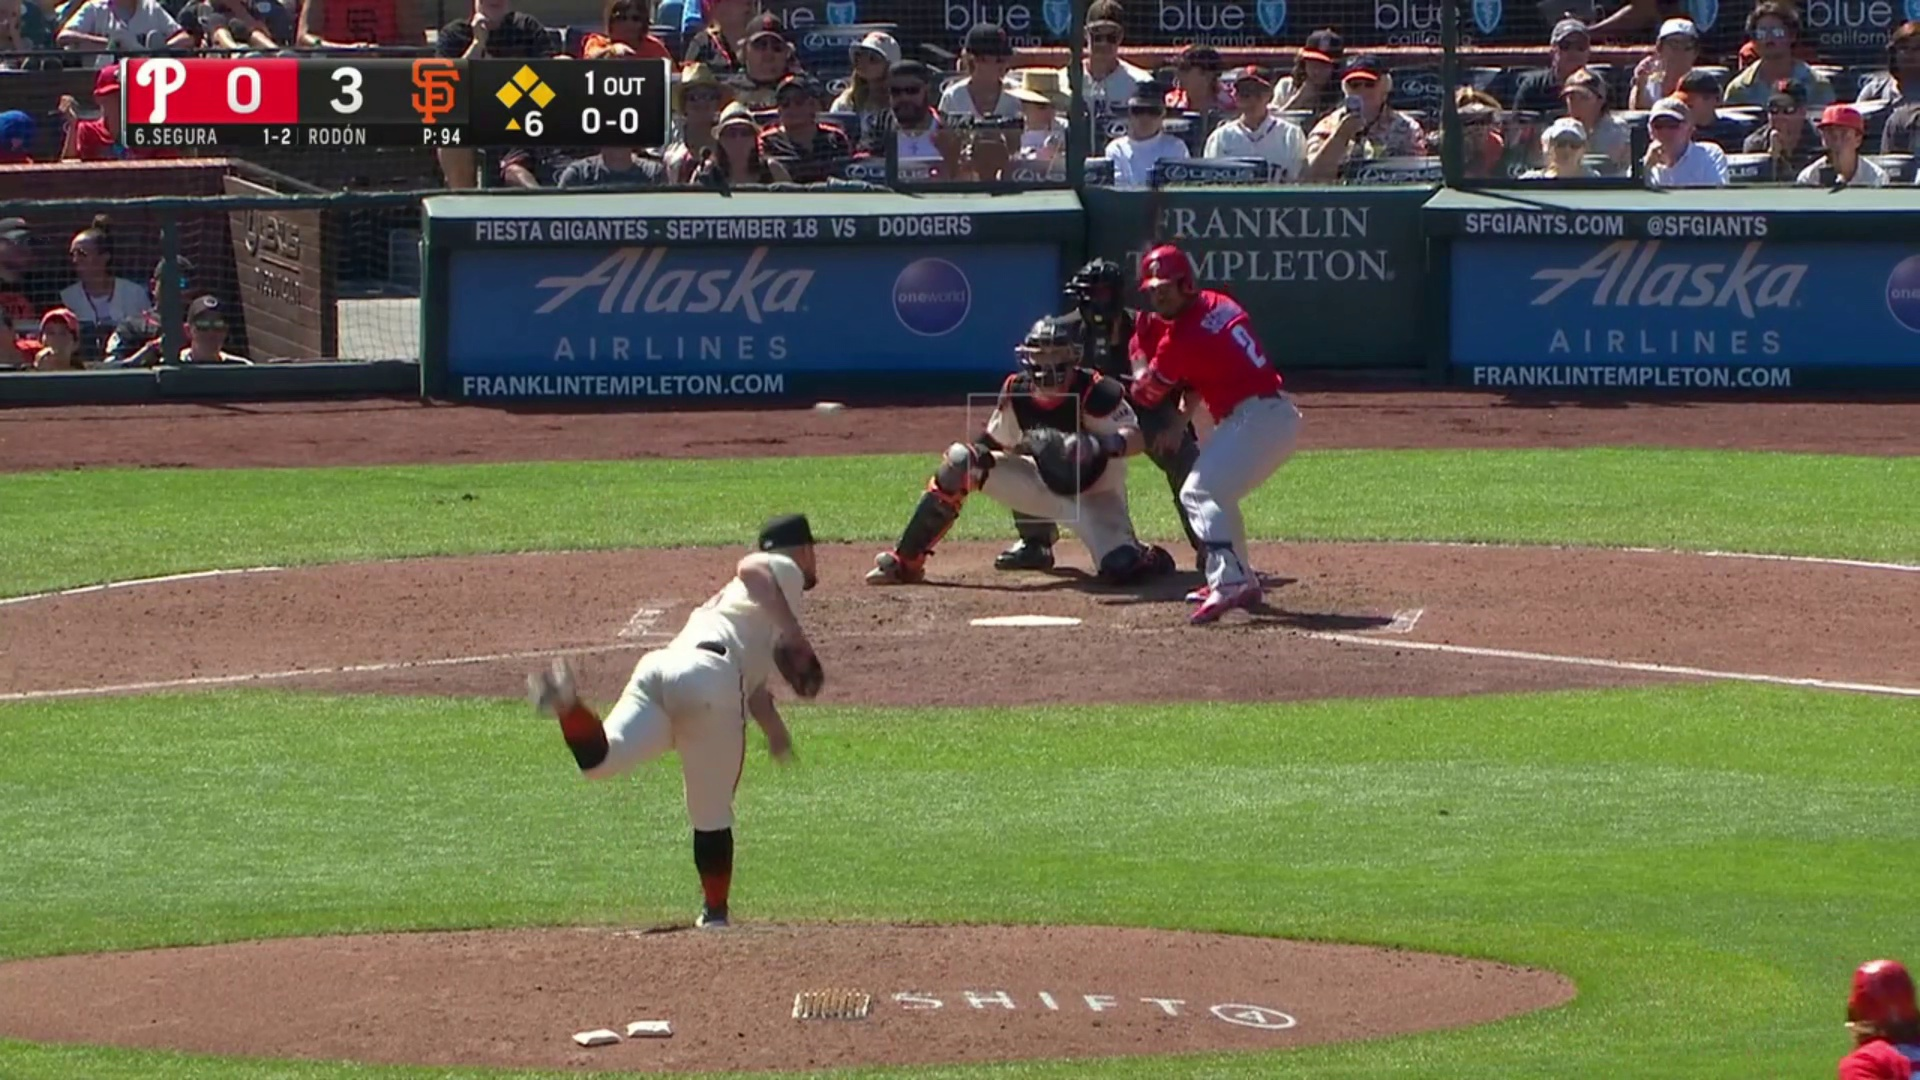baseball: (814, 401, 844, 419)
